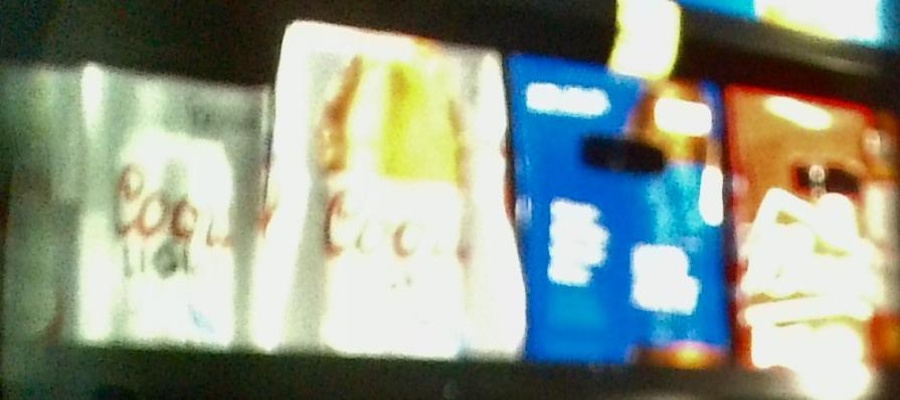bottle: (273, 19, 519, 358), (516, 52, 726, 374), (79, 66, 269, 346), (729, 88, 900, 374), (1, 65, 75, 343)
